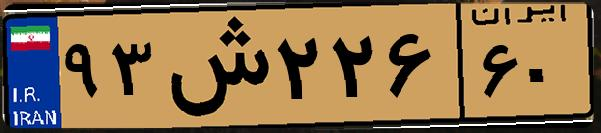0: (525, 38, 570, 115)
2: (270, 28, 330, 110), (330, 28, 385, 110)
3: (110, 28, 158, 98)
6: (385, 28, 445, 110), (475, 38, 525, 113)
9: (57, 26, 110, 100)
ش: (158, 12, 270, 120)
